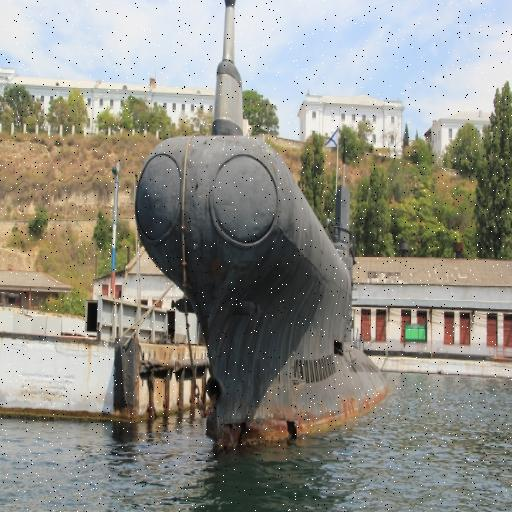submarine: (131, 1, 397, 457)
